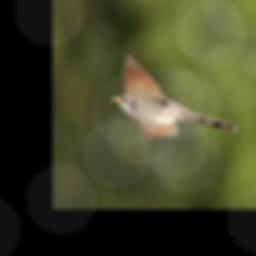Cuckoo: (111, 56, 238, 136)
